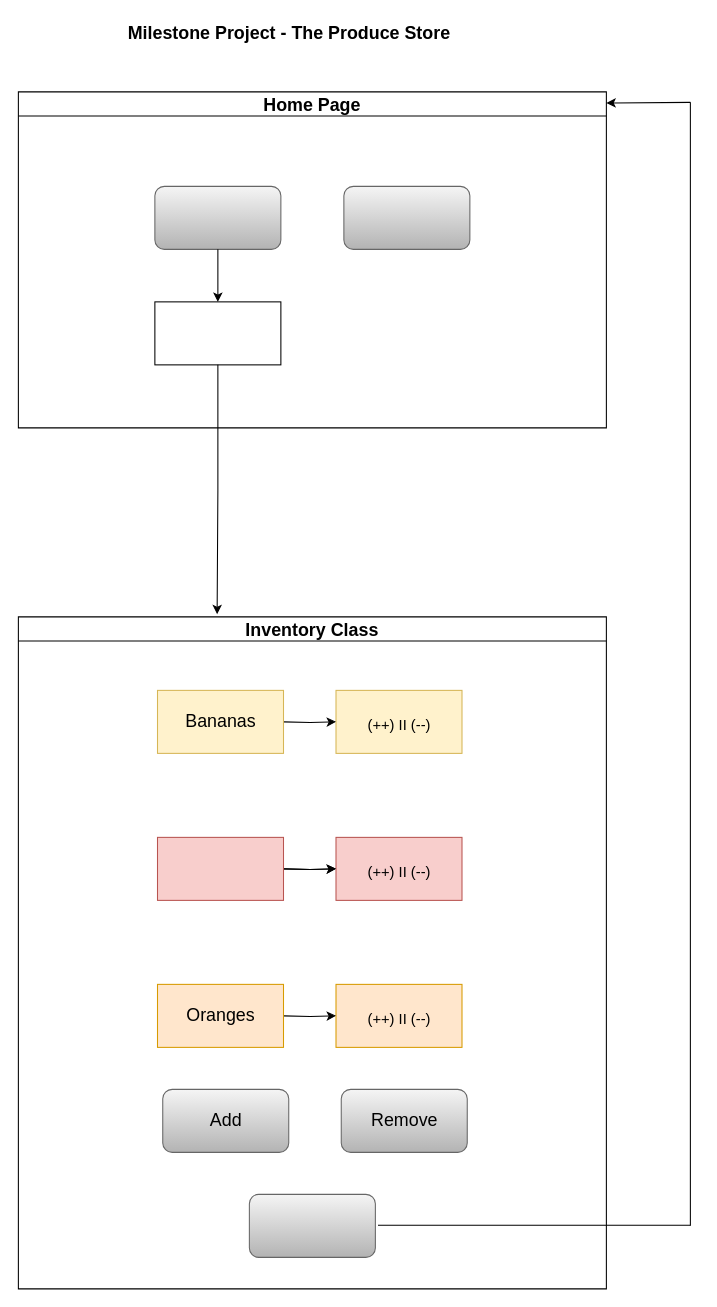
The diagram is 717 pixels wide and 1307 high, and some of its shapes have lost their labels. Here are the shapes that lost their labels. From the top down, the centre of each, then its label:
At [217,217]: "View Inventory".
At [406,217]: "Exit (btn)".
At [217,333]: "Opens Inventory class".
At [220,868]: "Apples".
At [311,1225]: "Home".
